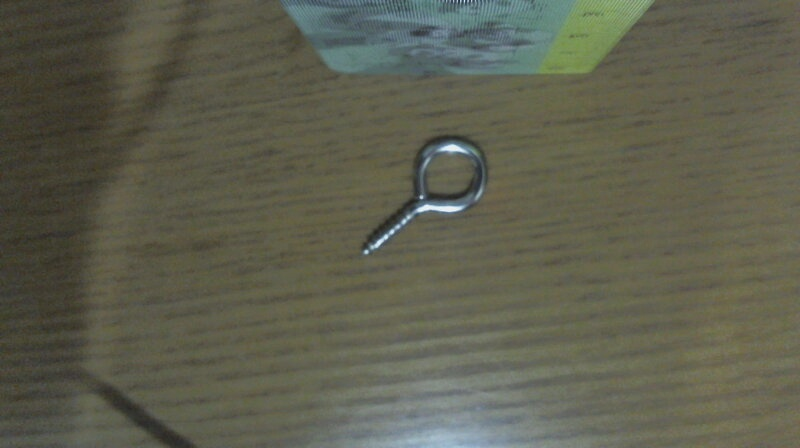O001: (358, 132, 493, 262)
